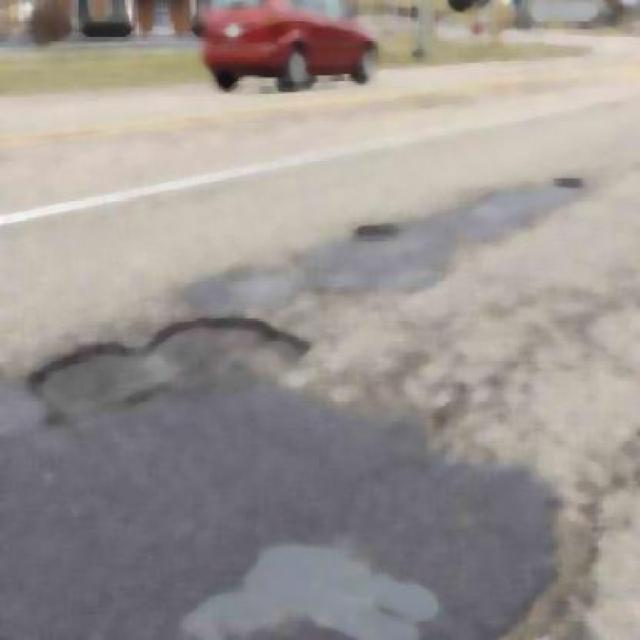pothole: (17, 293, 333, 446)
